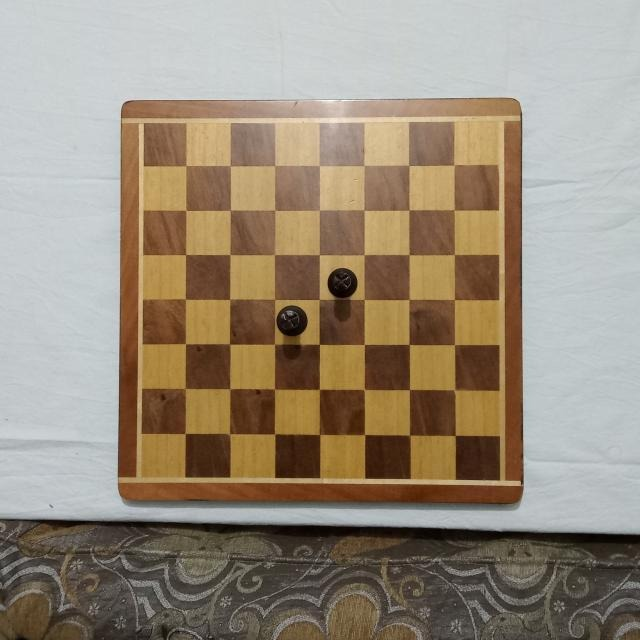black-rook: (276, 302, 310, 337), (326, 266, 358, 298)
